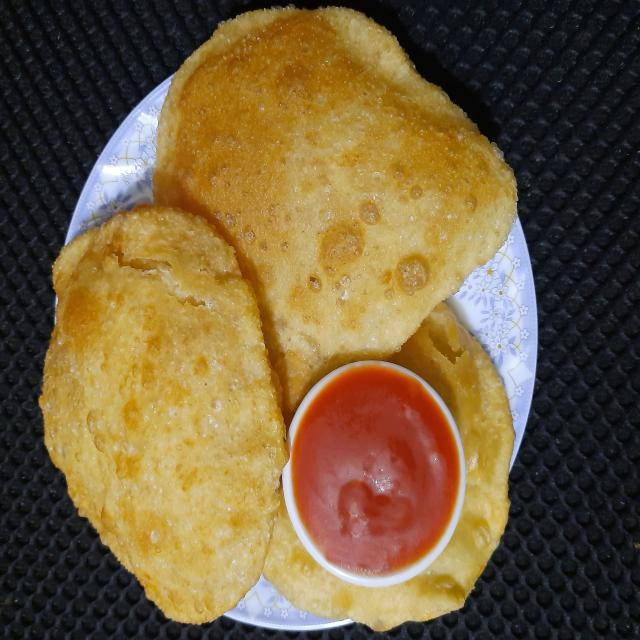POORI: (35, 6, 523, 621)
SAUCE: (293, 364, 458, 573)
